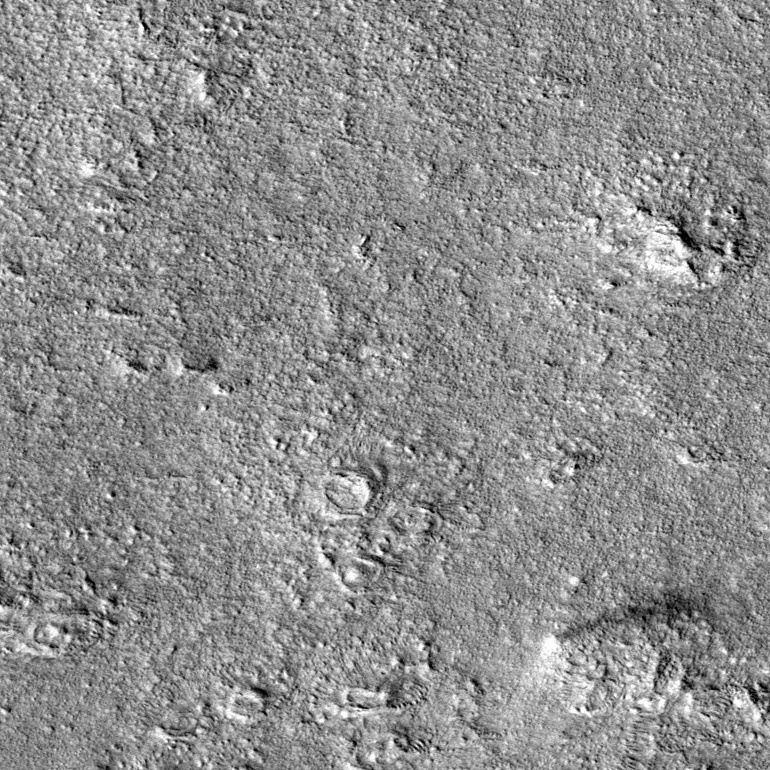dust_devil: (535, 585, 707, 676)
